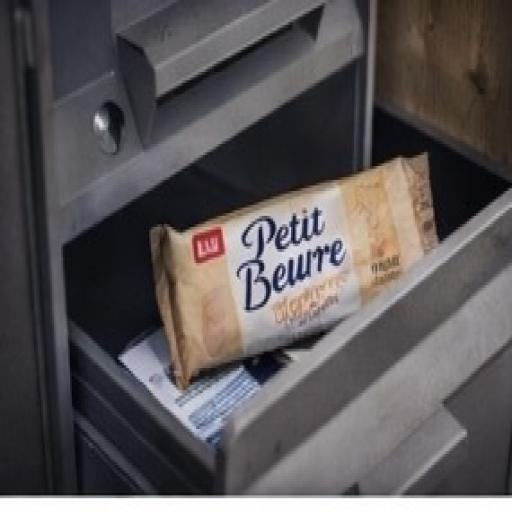petit_beurre: (132, 127, 483, 398)
